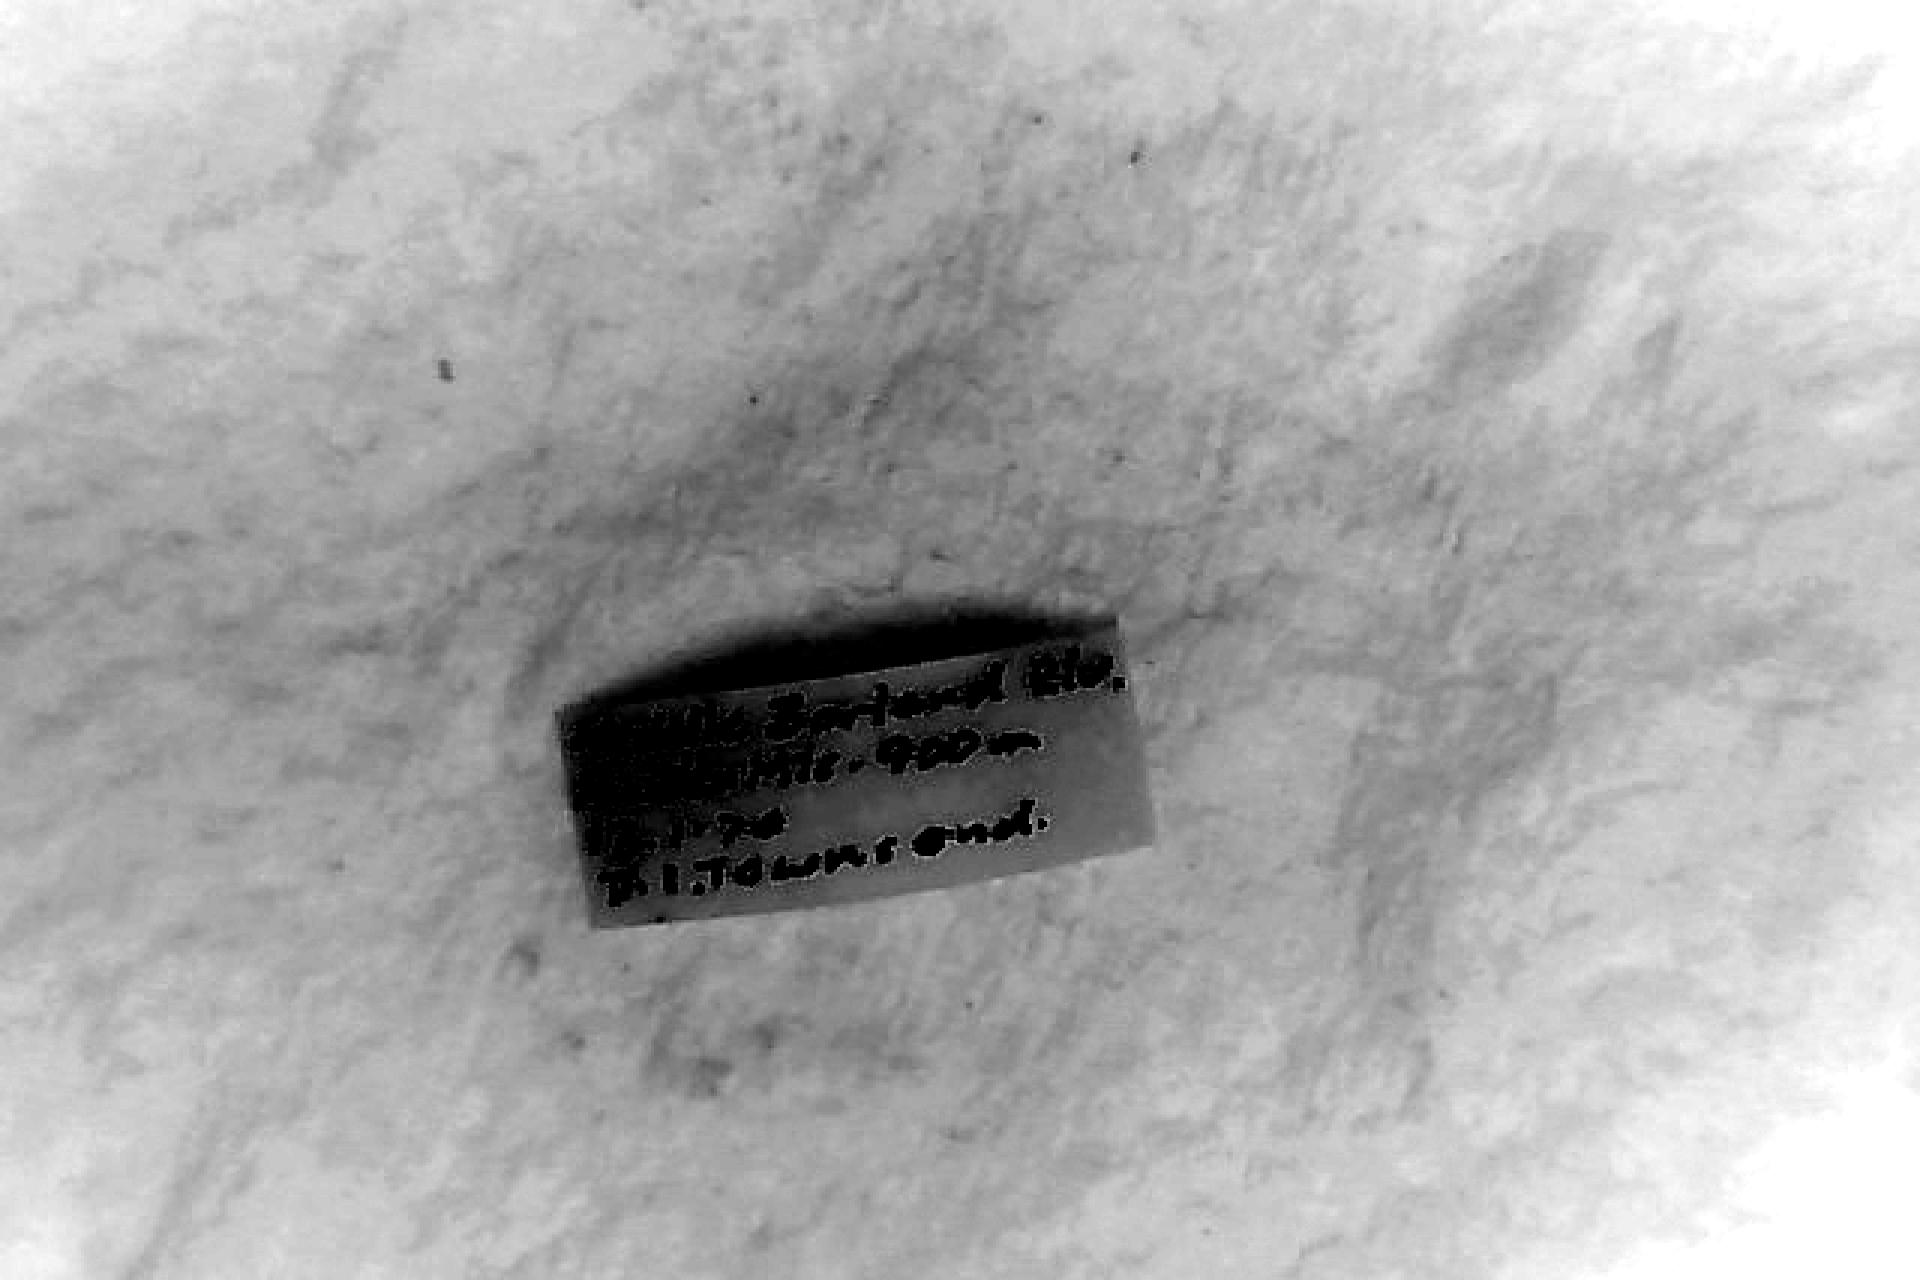hand_label: (559, 628, 1151, 927)
